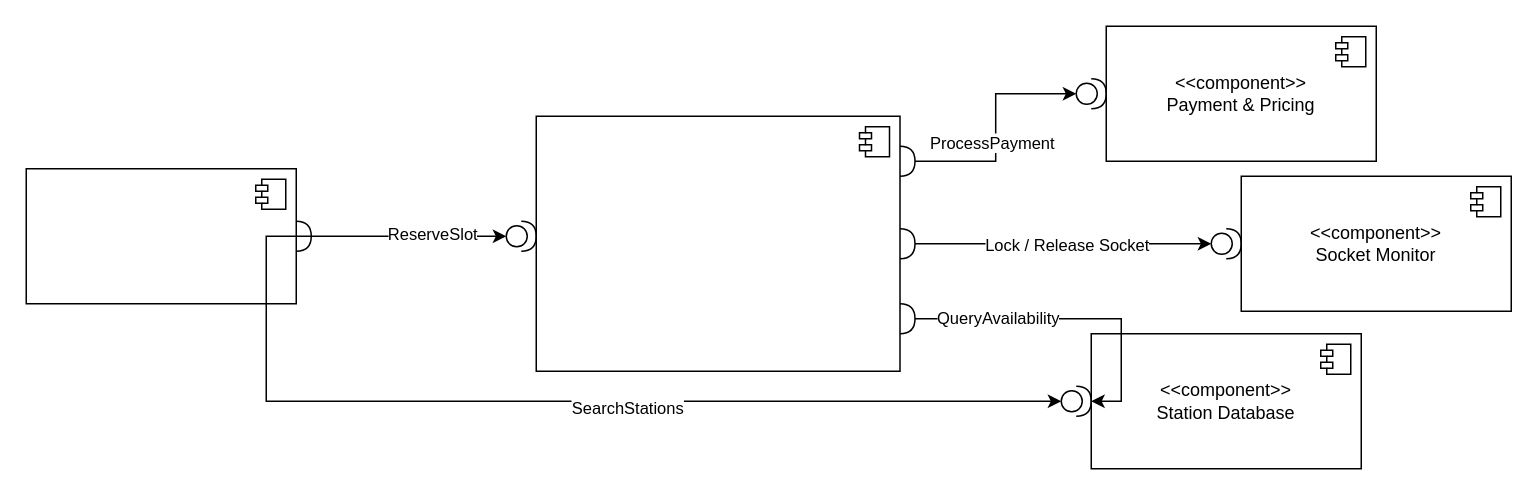
This 1538x495 diagram has some shape labels left out. The centre of each missing label's shape, as x and y in pixels:
"<<component>> Reservation Manager" belongs at (x=717, y=243).
"<<component>> Web Portal" belongs at (x=160, y=235).
